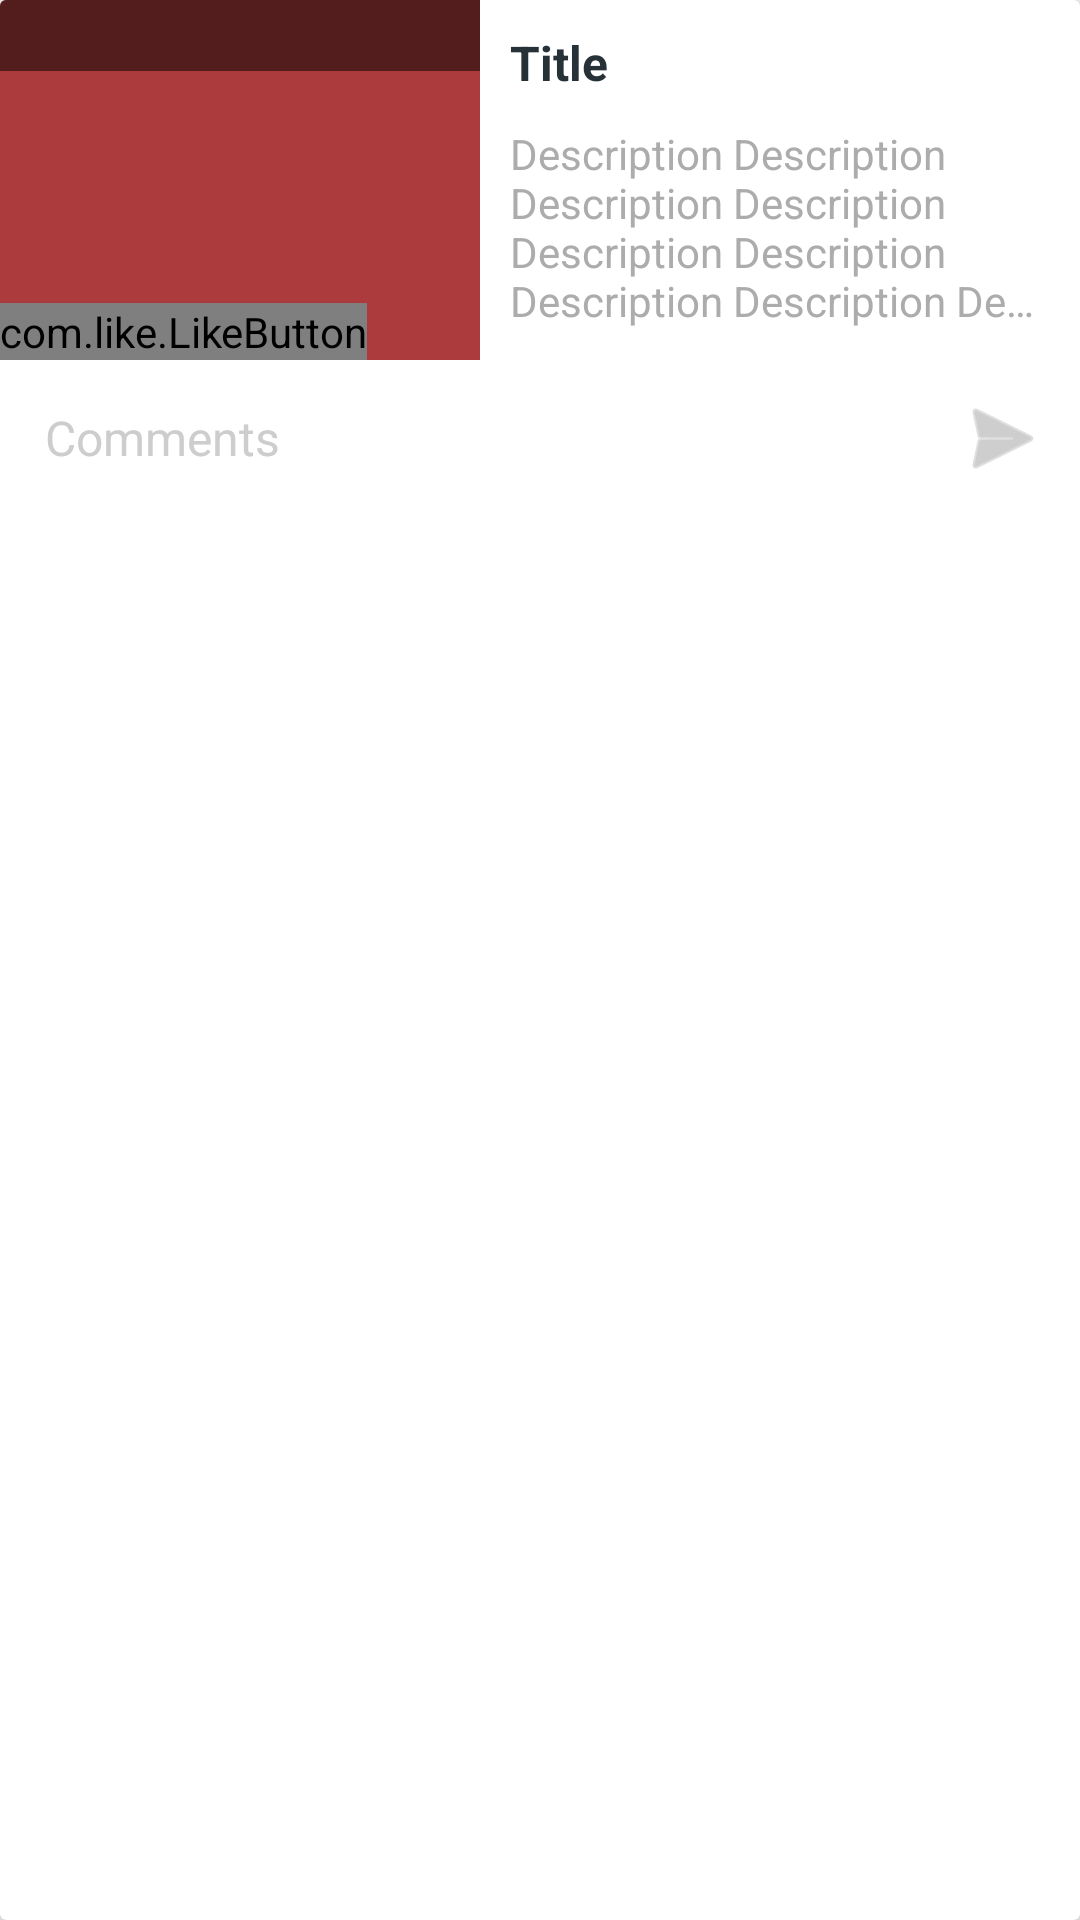

Named icons in this screenshot (1080w x 1920h) and their bounding boxes, (x1, y1, x2, y2):
send: (973, 409, 1033, 468)
